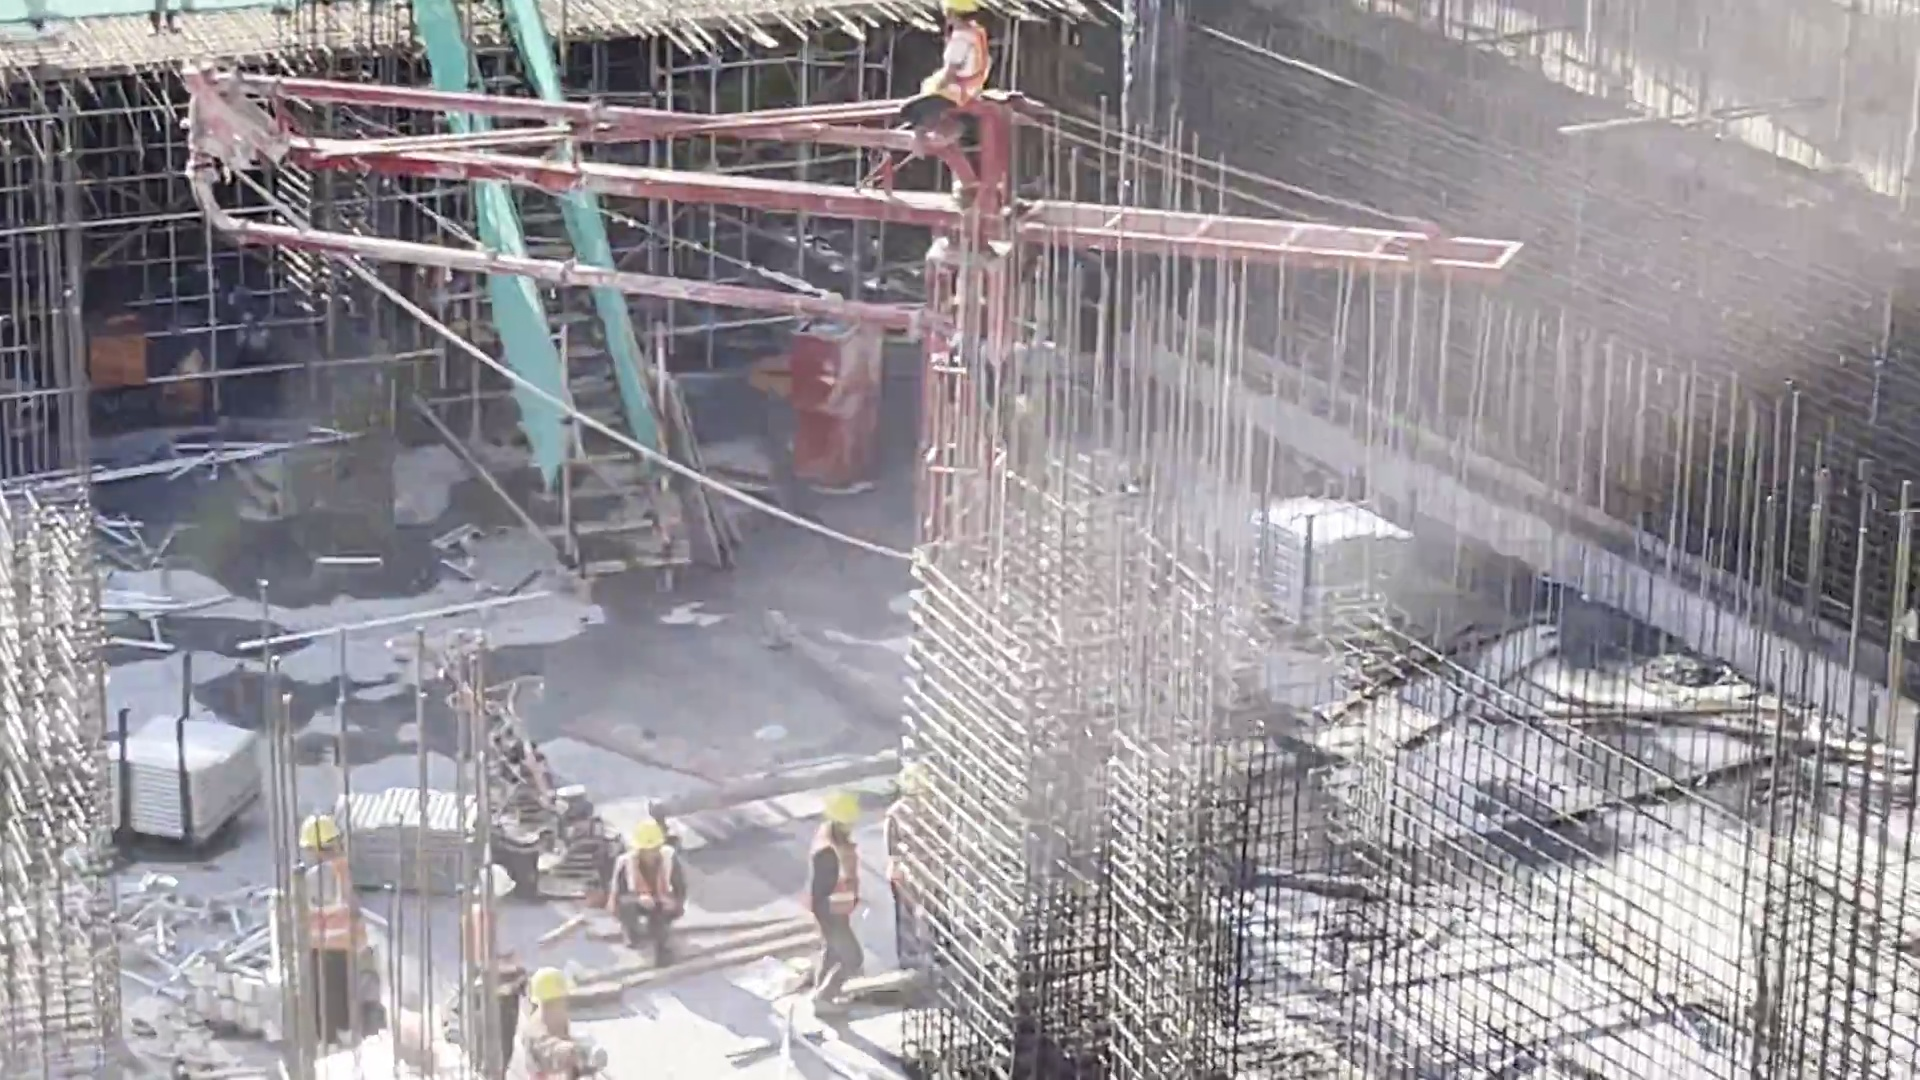helmet: (296, 815, 363, 846), (821, 793, 870, 834), (522, 968, 582, 997), (895, 764, 938, 798), (622, 817, 667, 849), (943, 1, 991, 22)
person: (282, 814, 385, 1044), (880, 4, 1000, 178), (496, 963, 613, 1080), (892, 765, 955, 974), (812, 783, 863, 1001), (615, 823, 688, 961)
scaffold: (1248, 487, 1387, 654), (332, 793, 492, 893), (119, 712, 239, 838)
vest: (919, 30, 996, 116), (297, 858, 364, 950), (892, 804, 941, 900), (619, 850, 686, 915), (810, 837, 859, 924)
